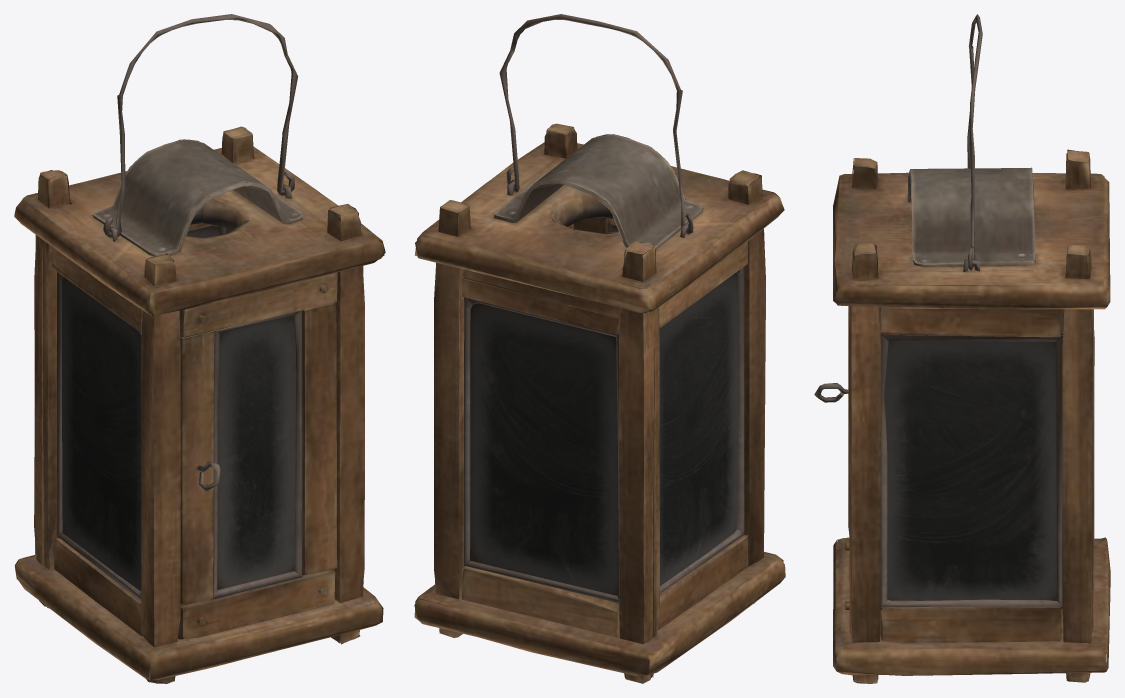
The model's file is lantern_wood.glb.
The picture shows the model from 3 angles, left to right: view 1: azimuth 30°, elevation 25°; view 2: azimuth 150°, elevation 25°; view 3: azimuth 270°, elevation 25°; orthographic projection.
Visible parts, largest first — view 1: wooden_lantern_01; view 2: wooden_lantern_01; view 3: wooden_lantern_01.
Part boxes in pixels (x1,y1,x2,y2): wooden_lantern_01: (14, 14, 385, 683); wooden_lantern_01: (414, 14, 785, 683); wooden_lantern_01: (814, 14, 1110, 683).
Size of the model in its own units: 0.2212 by 0.5289 by 0.2357.
2 materials, 2 textured.
